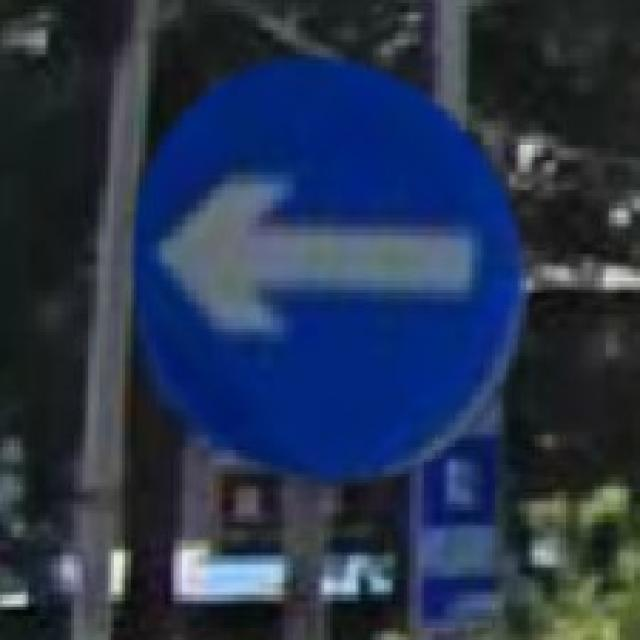Turn Left: (115, 58, 502, 484)
